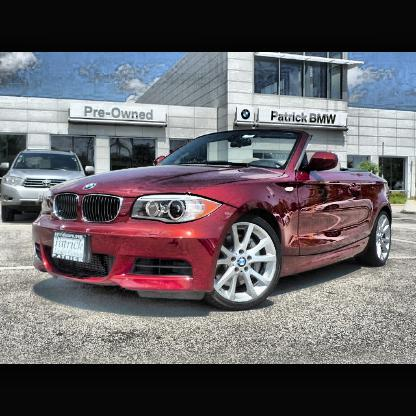BMW 1 Series Convertible 2012: (34, 128, 394, 312)
